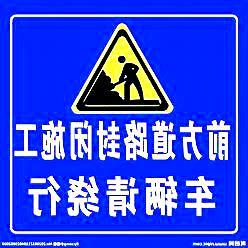sign: (7, 10, 240, 237)
